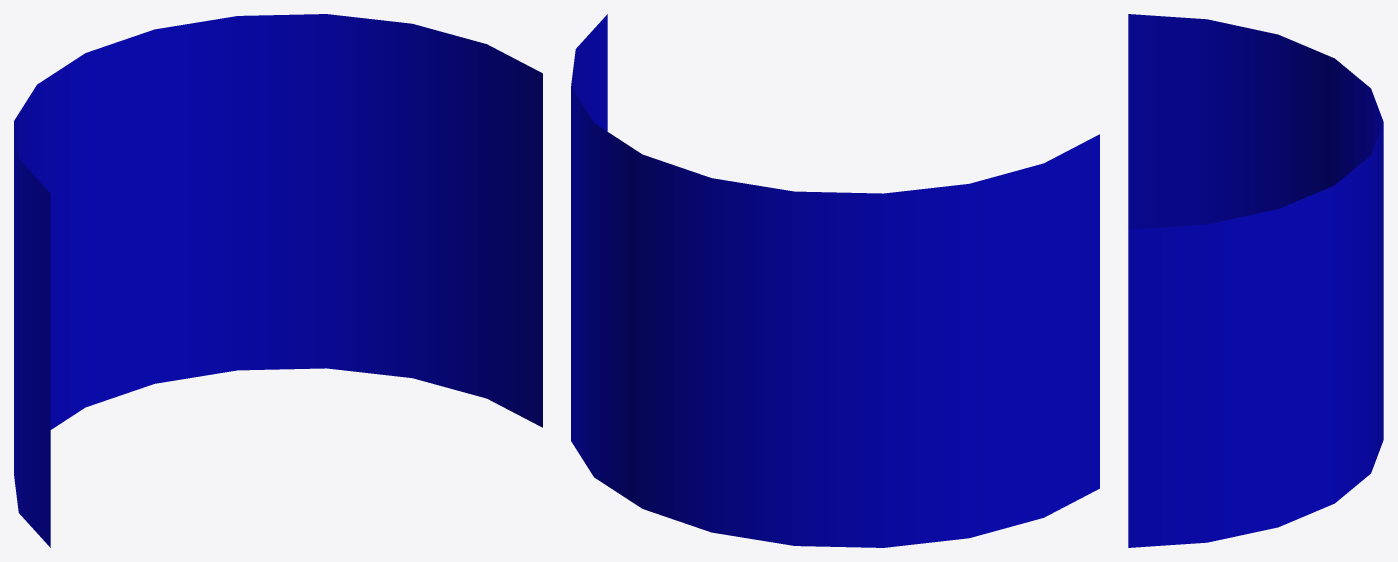
The model's file is future_reflection.fbx.
3 views of the same model, side by side, from view 1: azimuth 30°, elevation 25°; view 2: azimuth 150°, elevation 25°; view 3: azimuth 270°, elevation 25° (orthographic). The views are drawn at different scales.
Parts seen in each view (by area): view 1: Future_Refelction; view 2: Future_Refelction; view 3: Future_Refelction.
Part boxes in pixels (x1,y1,x2,y2): Future_Refelction: [14, 14, 542, 547]; Future_Refelction: [571, 14, 1099, 547]; Future_Refelction: [1128, 14, 1383, 547].
Size of the model in its own units: 56.12 by 38.61 by 28.06.
